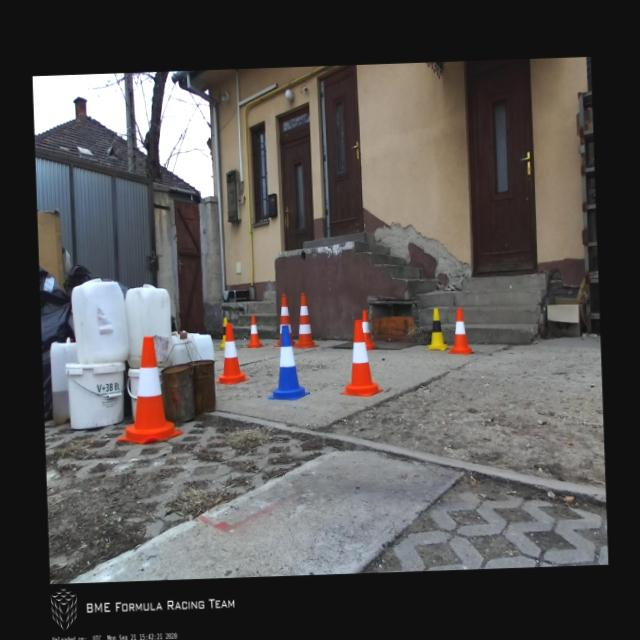blue_cone: (264, 324, 310, 400)
large_orange_cone: (290, 292, 318, 348), (272, 294, 296, 346)
orange_cone: (114, 334, 183, 444), (338, 318, 383, 396), (214, 322, 248, 384), (447, 306, 472, 354), (361, 309, 376, 350), (246, 314, 262, 348)
yellow_cone: (426, 307, 448, 351), (218, 316, 228, 348)
